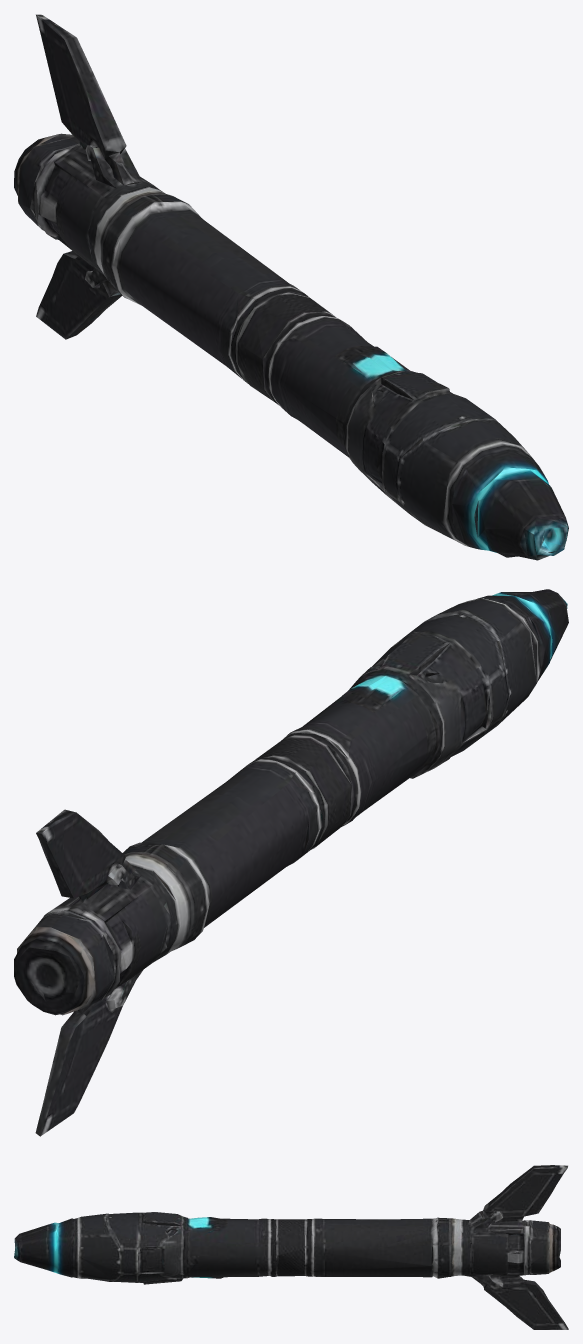
The model's file is micro_rocket.glb.
3 renders of one model, top to bottom at view 1: azimuth 30°, elevation 25°; view 2: azimuth 150°, elevation 25°; view 3: azimuth 270°, elevation 25°, orthographic. The views are drawn at different scales.
Visible parts, largest first — view 1: model; view 2: model; view 3: model.
Part boxes in pixels (<box>): model: <box>14,14,568,560</box>; model: <box>14,589,568,1136</box>; model: <box>14,1165,568,1329</box>.
Size of the model in its own units: 0.0403 by 0.1045 by 0.32.
1 material, 1 textured.
